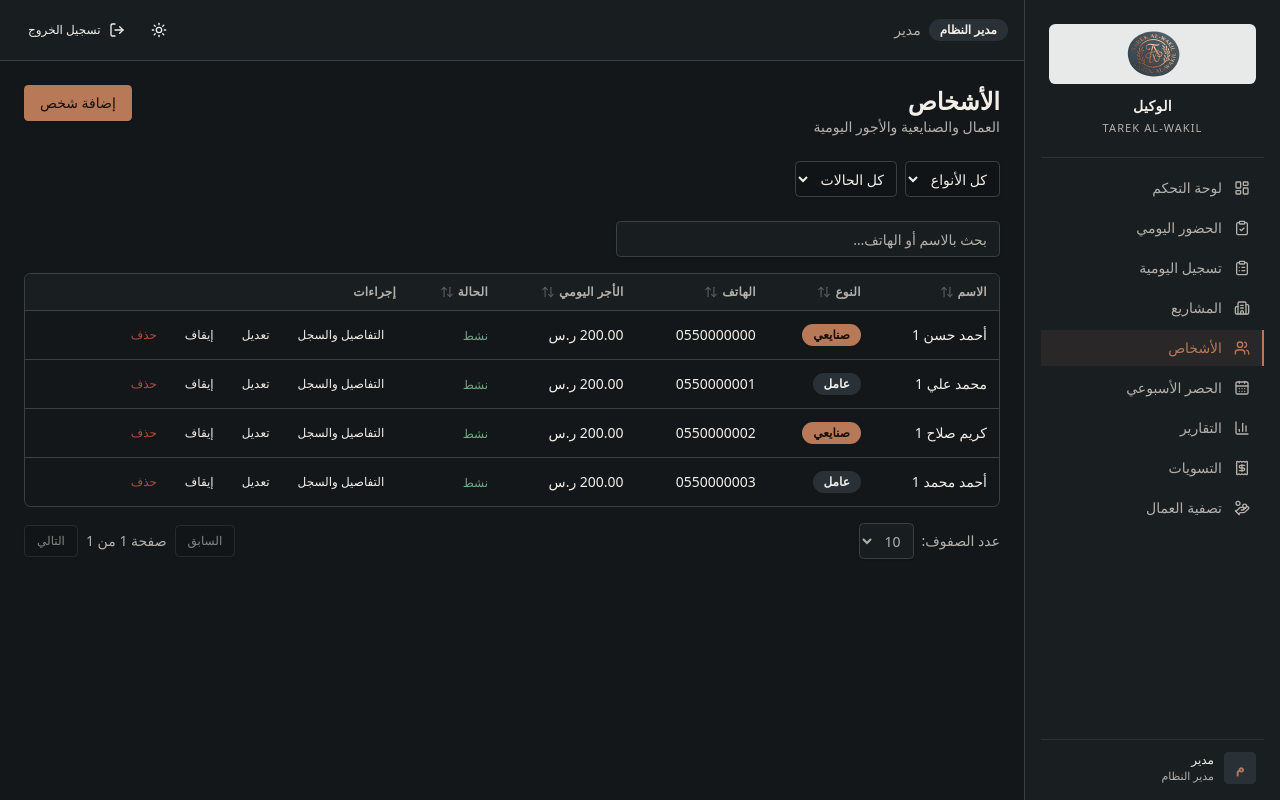
Test: PeoplePage data table › filters by status facet
Expected: the text "أحمد حسن 1" is shown, top-left (912, 325), bottom-right (987, 344)
Select "غير نشط" in the dropdown named "الحالة". click: (846, 179)
box: top-left (795, 161), bottom-right (897, 197)
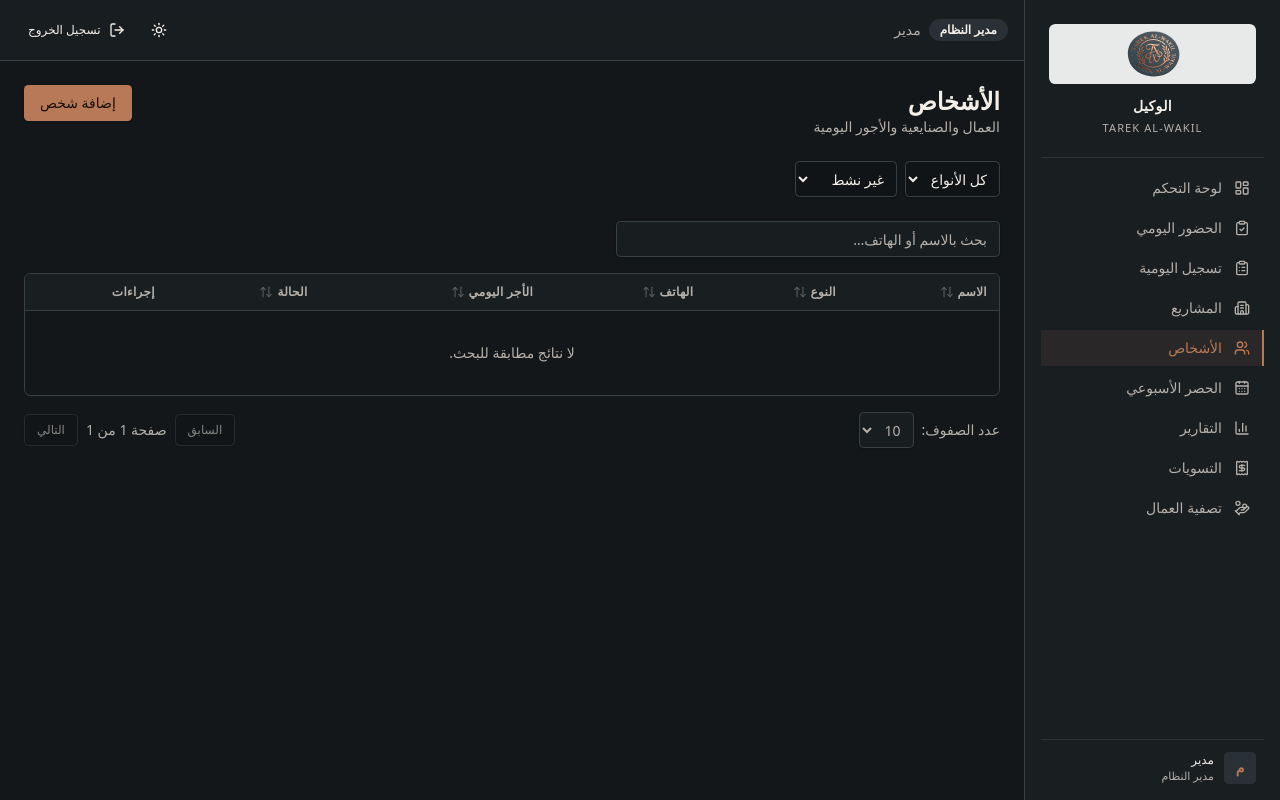
Result: the text "لا نتائج مطابقة للبحث." is shown at top-left (25, 310), bottom-right (999, 395)
